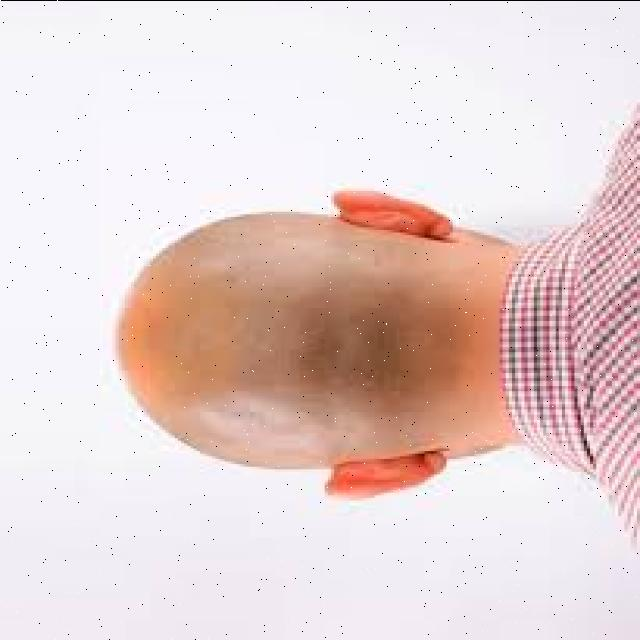Non_Helmet: (68, 162, 494, 542)
